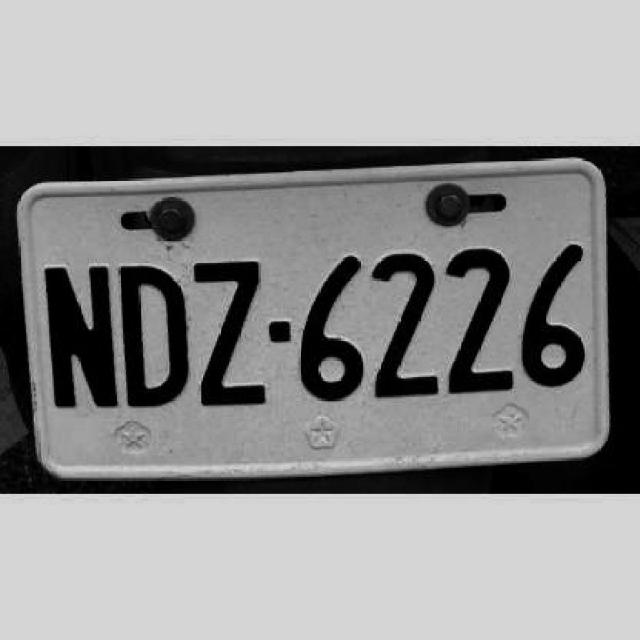-: (266, 317, 291, 343)
2: (441, 245, 514, 397), (369, 245, 437, 404)
6: (517, 235, 588, 394), (296, 249, 366, 408)
D: (115, 260, 189, 408)
N: (43, 262, 119, 409)
Z: (192, 255, 265, 412)
